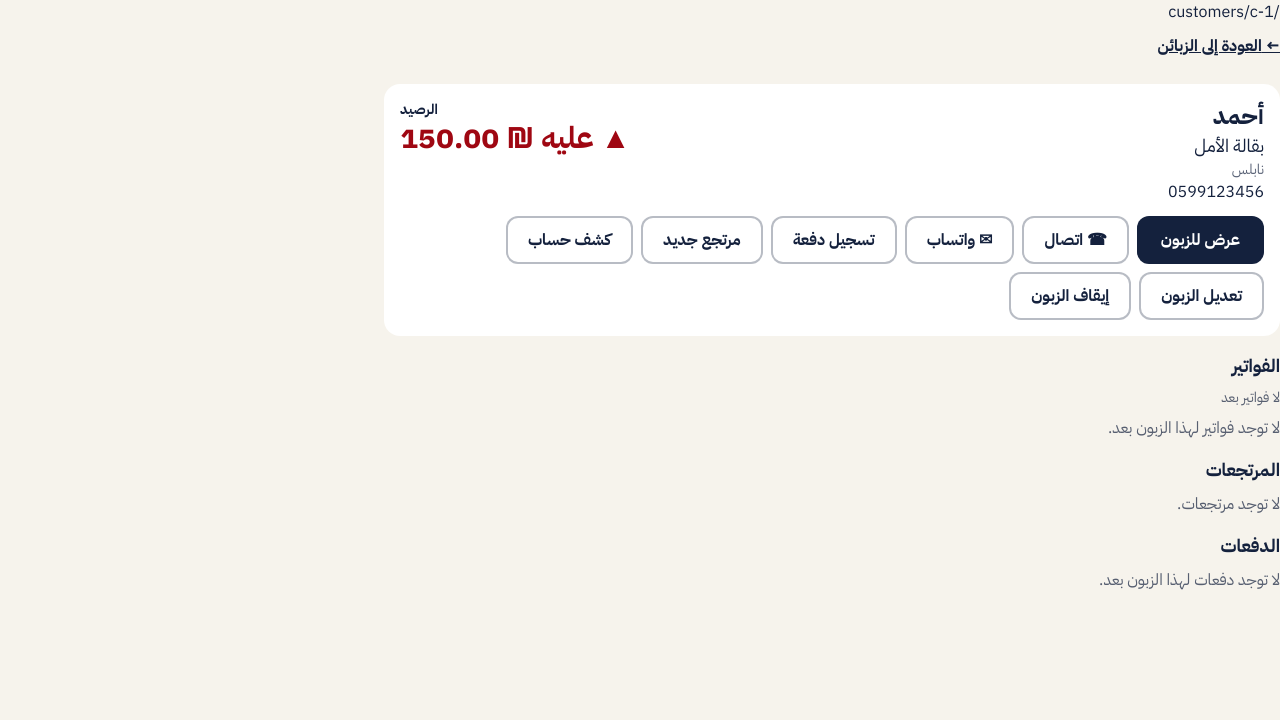
Test: customer profile › stopping a customer asks first, keeps his history and queues the change
Click the button "إيقاف الزبون": coordinates (1070, 296) [1009,272,1131,320]
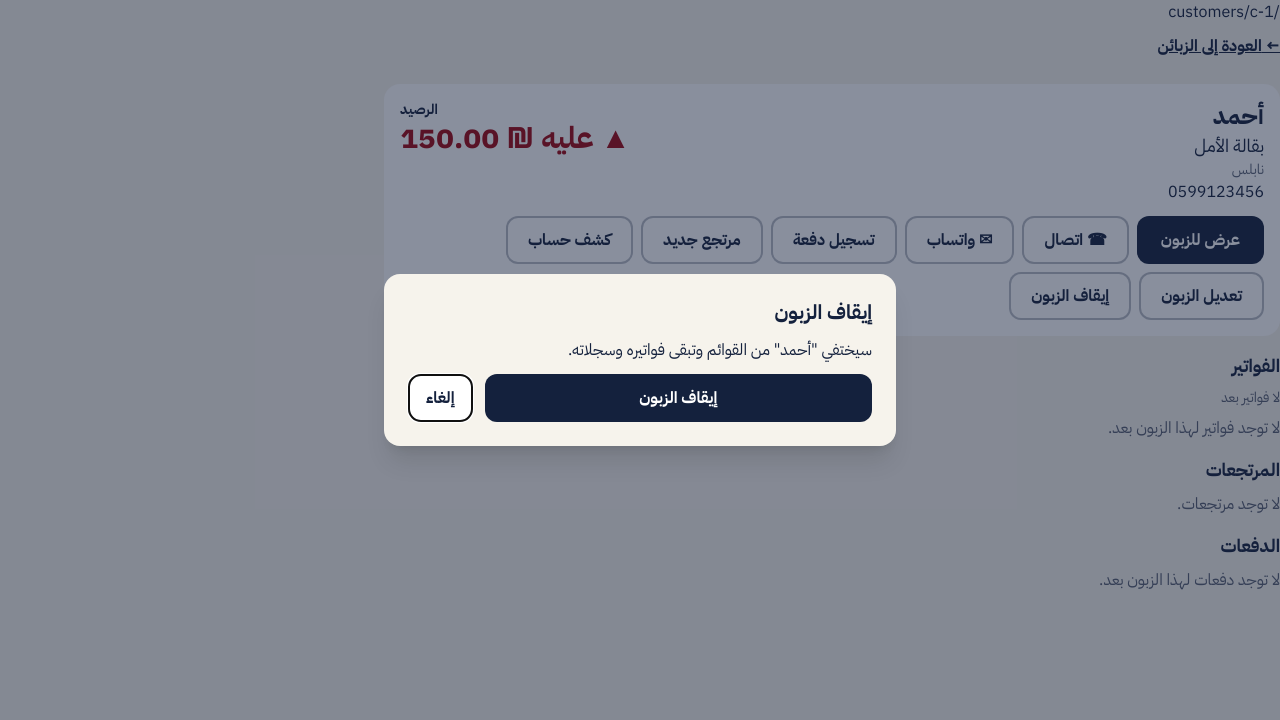
Click the button "إيقاف الزبون": coordinates (678, 398) [484,374,872,422]
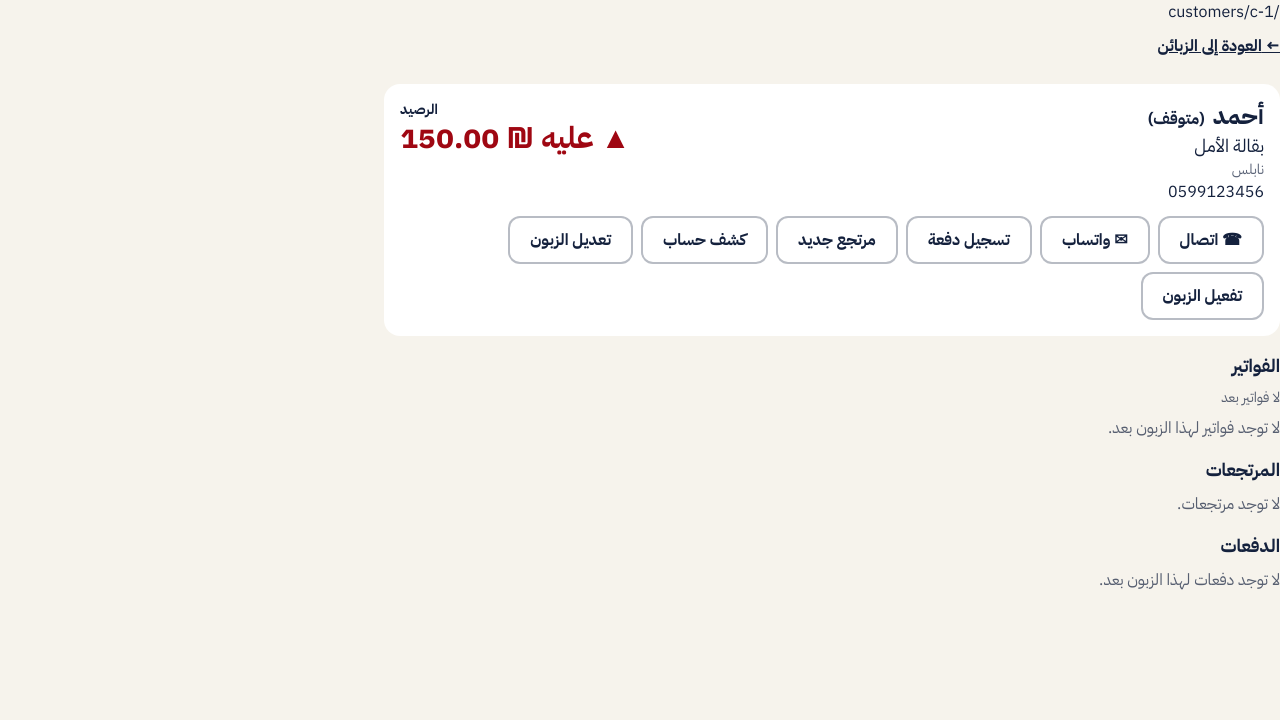
Expected: the button "تفعيل الزبون" is shown, [1140,272,1264,320]
Expected: the link "عرض للزبون" is gone
